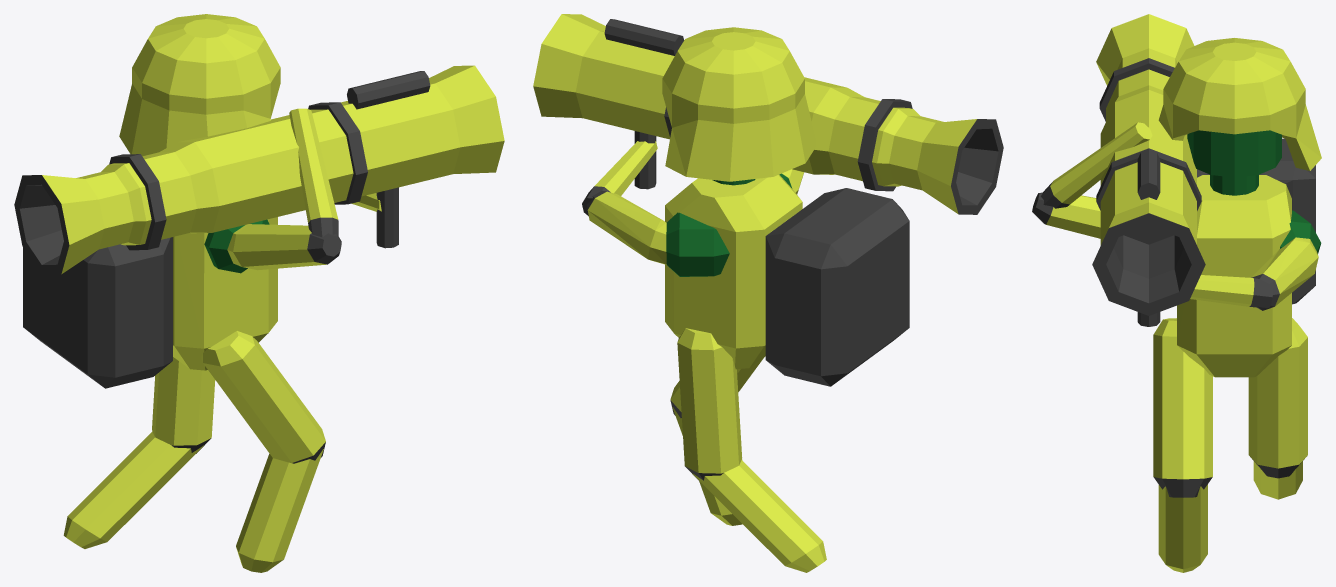
The model's file is Bazook.dae.
The picture shows the model from 3 angles, left to right: view 1: azimuth 30°, elevation 25°; view 2: azimuth 150°, elevation 25°; view 3: azimuth 270°, elevation 25°; orthographic projection. The views are drawn at different scales.
Visible parts, largest first — view 1: Cylinder.002, Cube, Cylinder.003, Cylinder, Cylinder.001; view 2: Cube, Cylinder.002, Cylinder, Cylinder.003, Cylinder.001; view 3: Cylinder.002, Cylinder.003, Cylinder, Cube, Cylinder.001.
Boxes of the visible parts, left/top/right/bottom form: Cylinder.002: left=14, top=65, right=504, bottom=274; Cube: left=23, top=217, right=277, bottom=388; Cylinder.003: left=63, top=331, right=325, bottom=572; Cylinder: left=119, top=14, right=280, bottom=156; Cylinder.001: left=204, top=108, right=381, bottom=273; Cube: left=665, top=174, right=909, bottom=386; Cylinder.002: left=533, top=14, right=1003, bottom=214; Cylinder: left=662, top=27, right=816, bottom=185; Cylinder.003: left=670, top=328, right=826, bottom=572; Cylinder.001: left=582, top=141, right=803, bottom=276; Cylinder.002: left=1092, top=14, right=1205, bottom=326; Cylinder.003: left=1153, top=318, right=1307, bottom=572; Cylinder: left=1158, top=38, right=1321, bottom=195; Cube: left=1177, top=138, right=1315, bottom=377; Cylinder.001: left=1032, top=122, right=1321, bottom=310.
Bounding box in the file's own units: 4.28 × 2.59 × 4.98.
